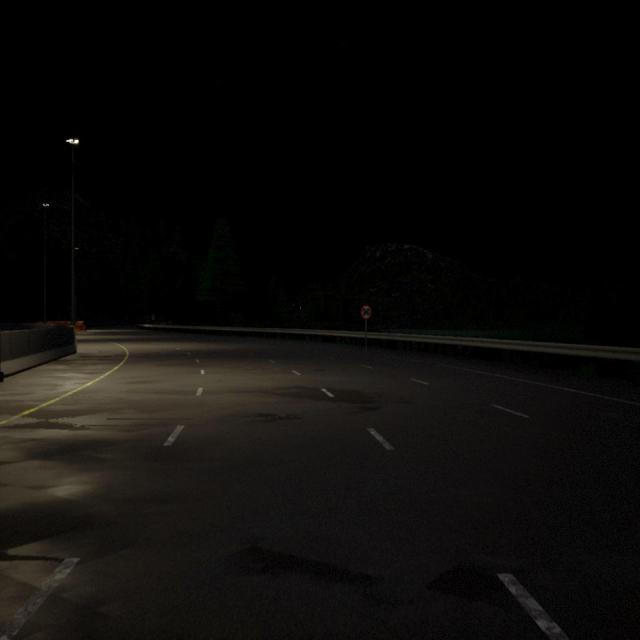Traffic_Signs: (361, 304, 372, 319), (151, 314, 155, 320)
